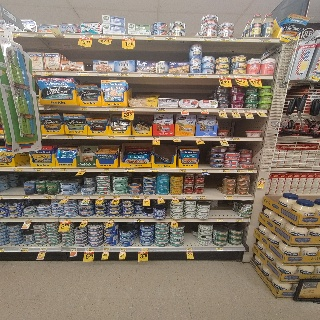All PRICE TAGS: (310, 73, 319, 82), (47, 106, 60, 110), (80, 34, 93, 38), (163, 36, 176, 40), (18, 247, 28, 252), (36, 32, 46, 37), (41, 195, 53, 199), (11, 168, 23, 172), (32, 168, 44, 172), (248, 75, 260, 79), (158, 73, 169, 77), (199, 37, 210, 41), (219, 37, 230, 41), (155, 108, 166, 112), (45, 71, 53, 76), (123, 107, 133, 111), (100, 35, 113, 38), (139, 247, 148, 251), (86, 135, 95, 139), (66, 135, 75, 139), (12, 32, 21, 36), (259, 38, 271, 41), (77, 72, 89, 75), (97, 72, 109, 75), (118, 73, 130, 76), (80, 106, 89, 110), (124, 36, 135, 39), (139, 73, 150, 76), (215, 247, 223, 251), (119, 247, 127, 251), (103, 247, 111, 251), (235, 218, 243, 222), (128, 136, 136, 140), (256, 109, 264, 113), (22, 195, 30, 199), (223, 196, 233, 199), (235, 169, 245, 172), (124, 169, 134, 172), (174, 73, 180, 78), (233, 38, 243, 41), (220, 75, 230, 78), (235, 75, 245, 78), (186, 247, 193, 251), (172, 195, 179, 199), (143, 195, 150, 199), (244, 109, 251, 113), (25, 218, 32, 222), (247, 169, 254, 173), (85, 248, 94, 251), (62, 218, 71, 221), (197, 196, 206, 199), (183, 196, 192, 199), (130, 195, 139, 198), (150, 169, 159, 172), (58, 168, 67, 171), (230, 137, 239, 140), (146, 36, 155, 39), (107, 107, 116, 110), (135, 218, 143, 221), (157, 195, 165, 198), (83, 195, 91, 198), (63, 195, 71, 198), (221, 169, 229, 172), (201, 169, 209, 172), (178, 169, 186, 172), (78, 168, 86, 171), (219, 137, 227, 140), (107, 136, 115, 139), (200, 109, 208, 112), (40, 247, 46, 251), (173, 74, 181, 77), (187, 74, 195, 77), (181, 109, 189, 112), (70, 248, 77, 251), (216, 218, 223, 221), (171, 219, 178, 222), (107, 218, 114, 221), (82, 218, 89, 221), (113, 195, 120, 198), (97, 195, 104, 198), (195, 137, 202, 140), (173, 137, 180, 140), (153, 137, 160, 140), (231, 109, 238, 112), (218, 109, 225, 112), (200, 74, 207, 77), (41, 135, 47, 138), (102, 169, 110, 171)
